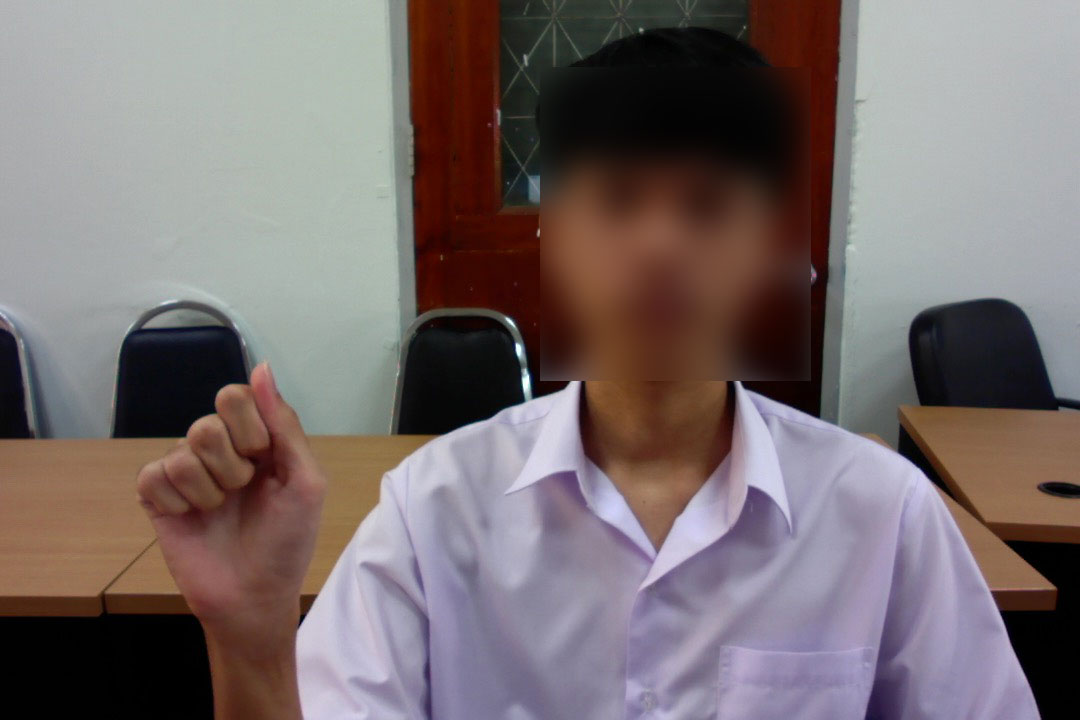or: (124, 345, 337, 651)
